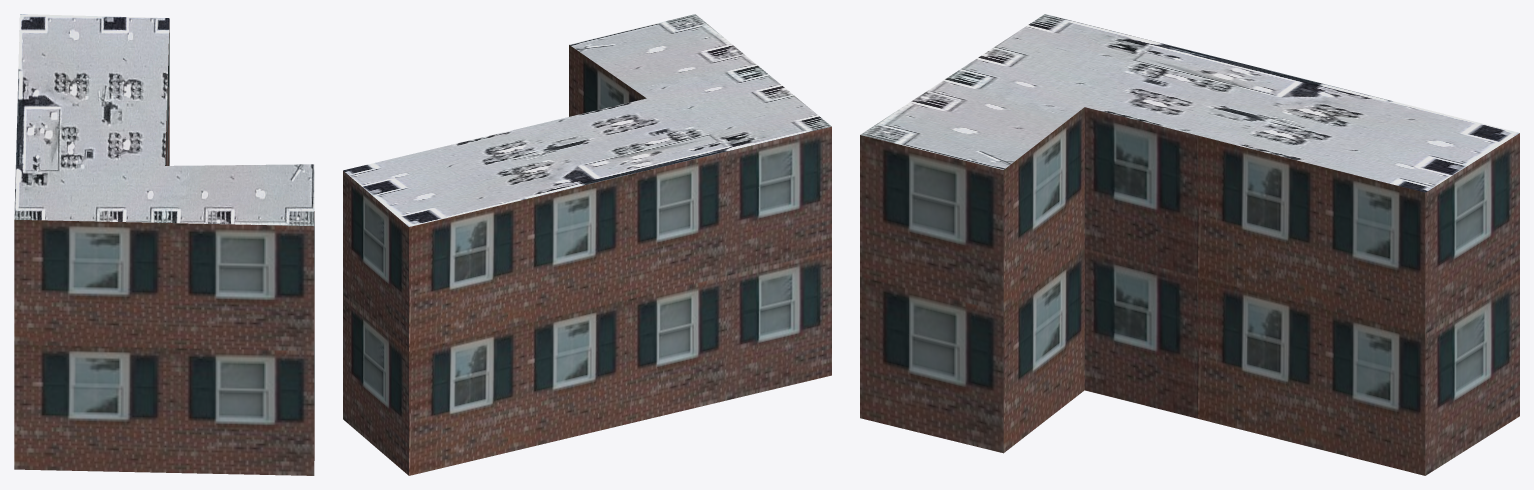
Rendered from ResTex__2033.fbx.
3 renders of one model, left to right at view 1: azimuth 30°, elevation 25°; view 2: azimuth 150°, elevation 25°; view 3: azimuth 270°, elevation 25°, orthographic. The views are drawn at different scales.
Parts seen in each view (by area): view 1: CityEngineMaterial_14_m, CityEngineMaterial_4_m; view 2: CityEngineMaterial_14_m, CityEngineMaterial_4_m; view 3: CityEngineMaterial_14_m, CityEngineMaterial_4_m.
Boxes of the visible parts, x1,y1,x2,y2 form: CityEngineMaterial_14_m: (14,22,314,475); CityEngineMaterial_4_m: (14,14,314,225); CityEngineMaterial_14_m: (343,45,831,475); CityEngineMaterial_4_m: (343,14,831,226); CityEngineMaterial_14_m: (860,107,1519,475); CityEngineMaterial_4_m: (860,14,1519,192).
Bounding box in the file's own units: 8.12 × 6 × 12.67.
Materials: 2 (2 with a texture image).
